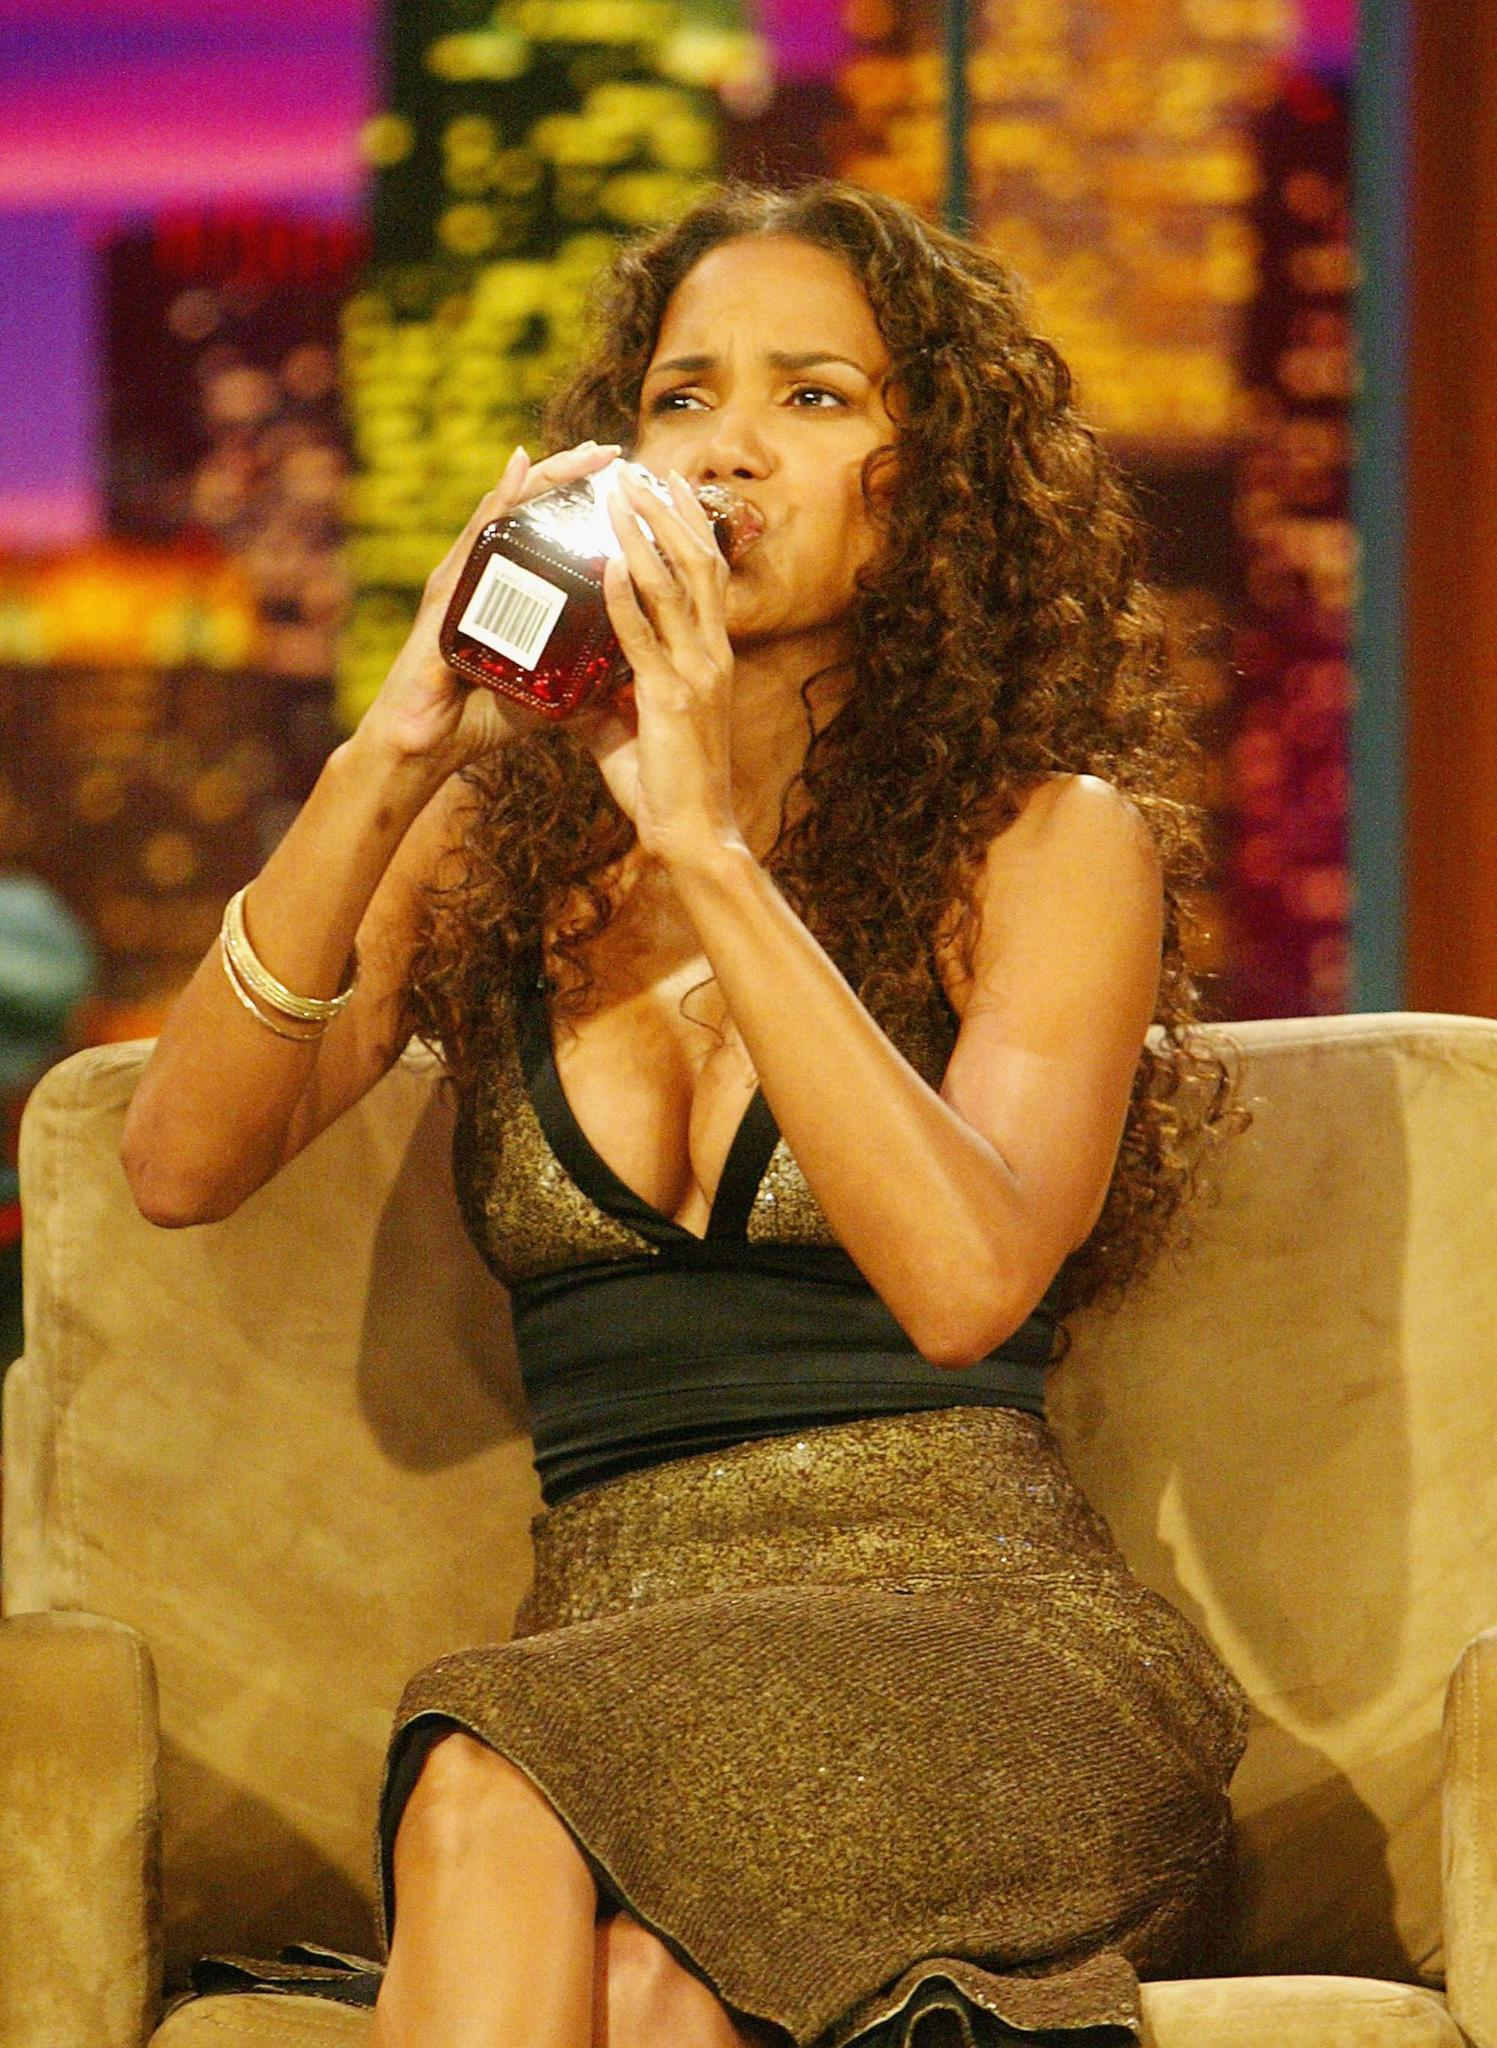Drunk: (657, 261, 881, 622)
